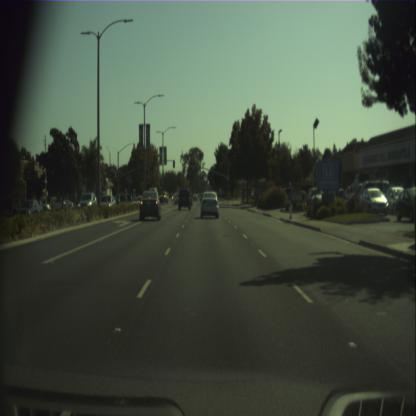Green: (228, 181, 230, 187), (235, 180, 236, 183)
GreenStraight: (198, 165, 200, 170)
off: (182, 166, 184, 172)
